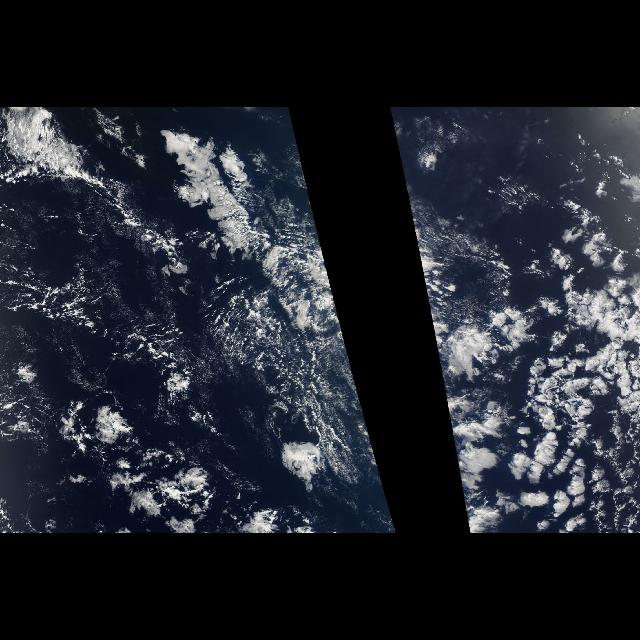Flower: (429, 191, 636, 531)
Sugar: (18, 205, 360, 531)
